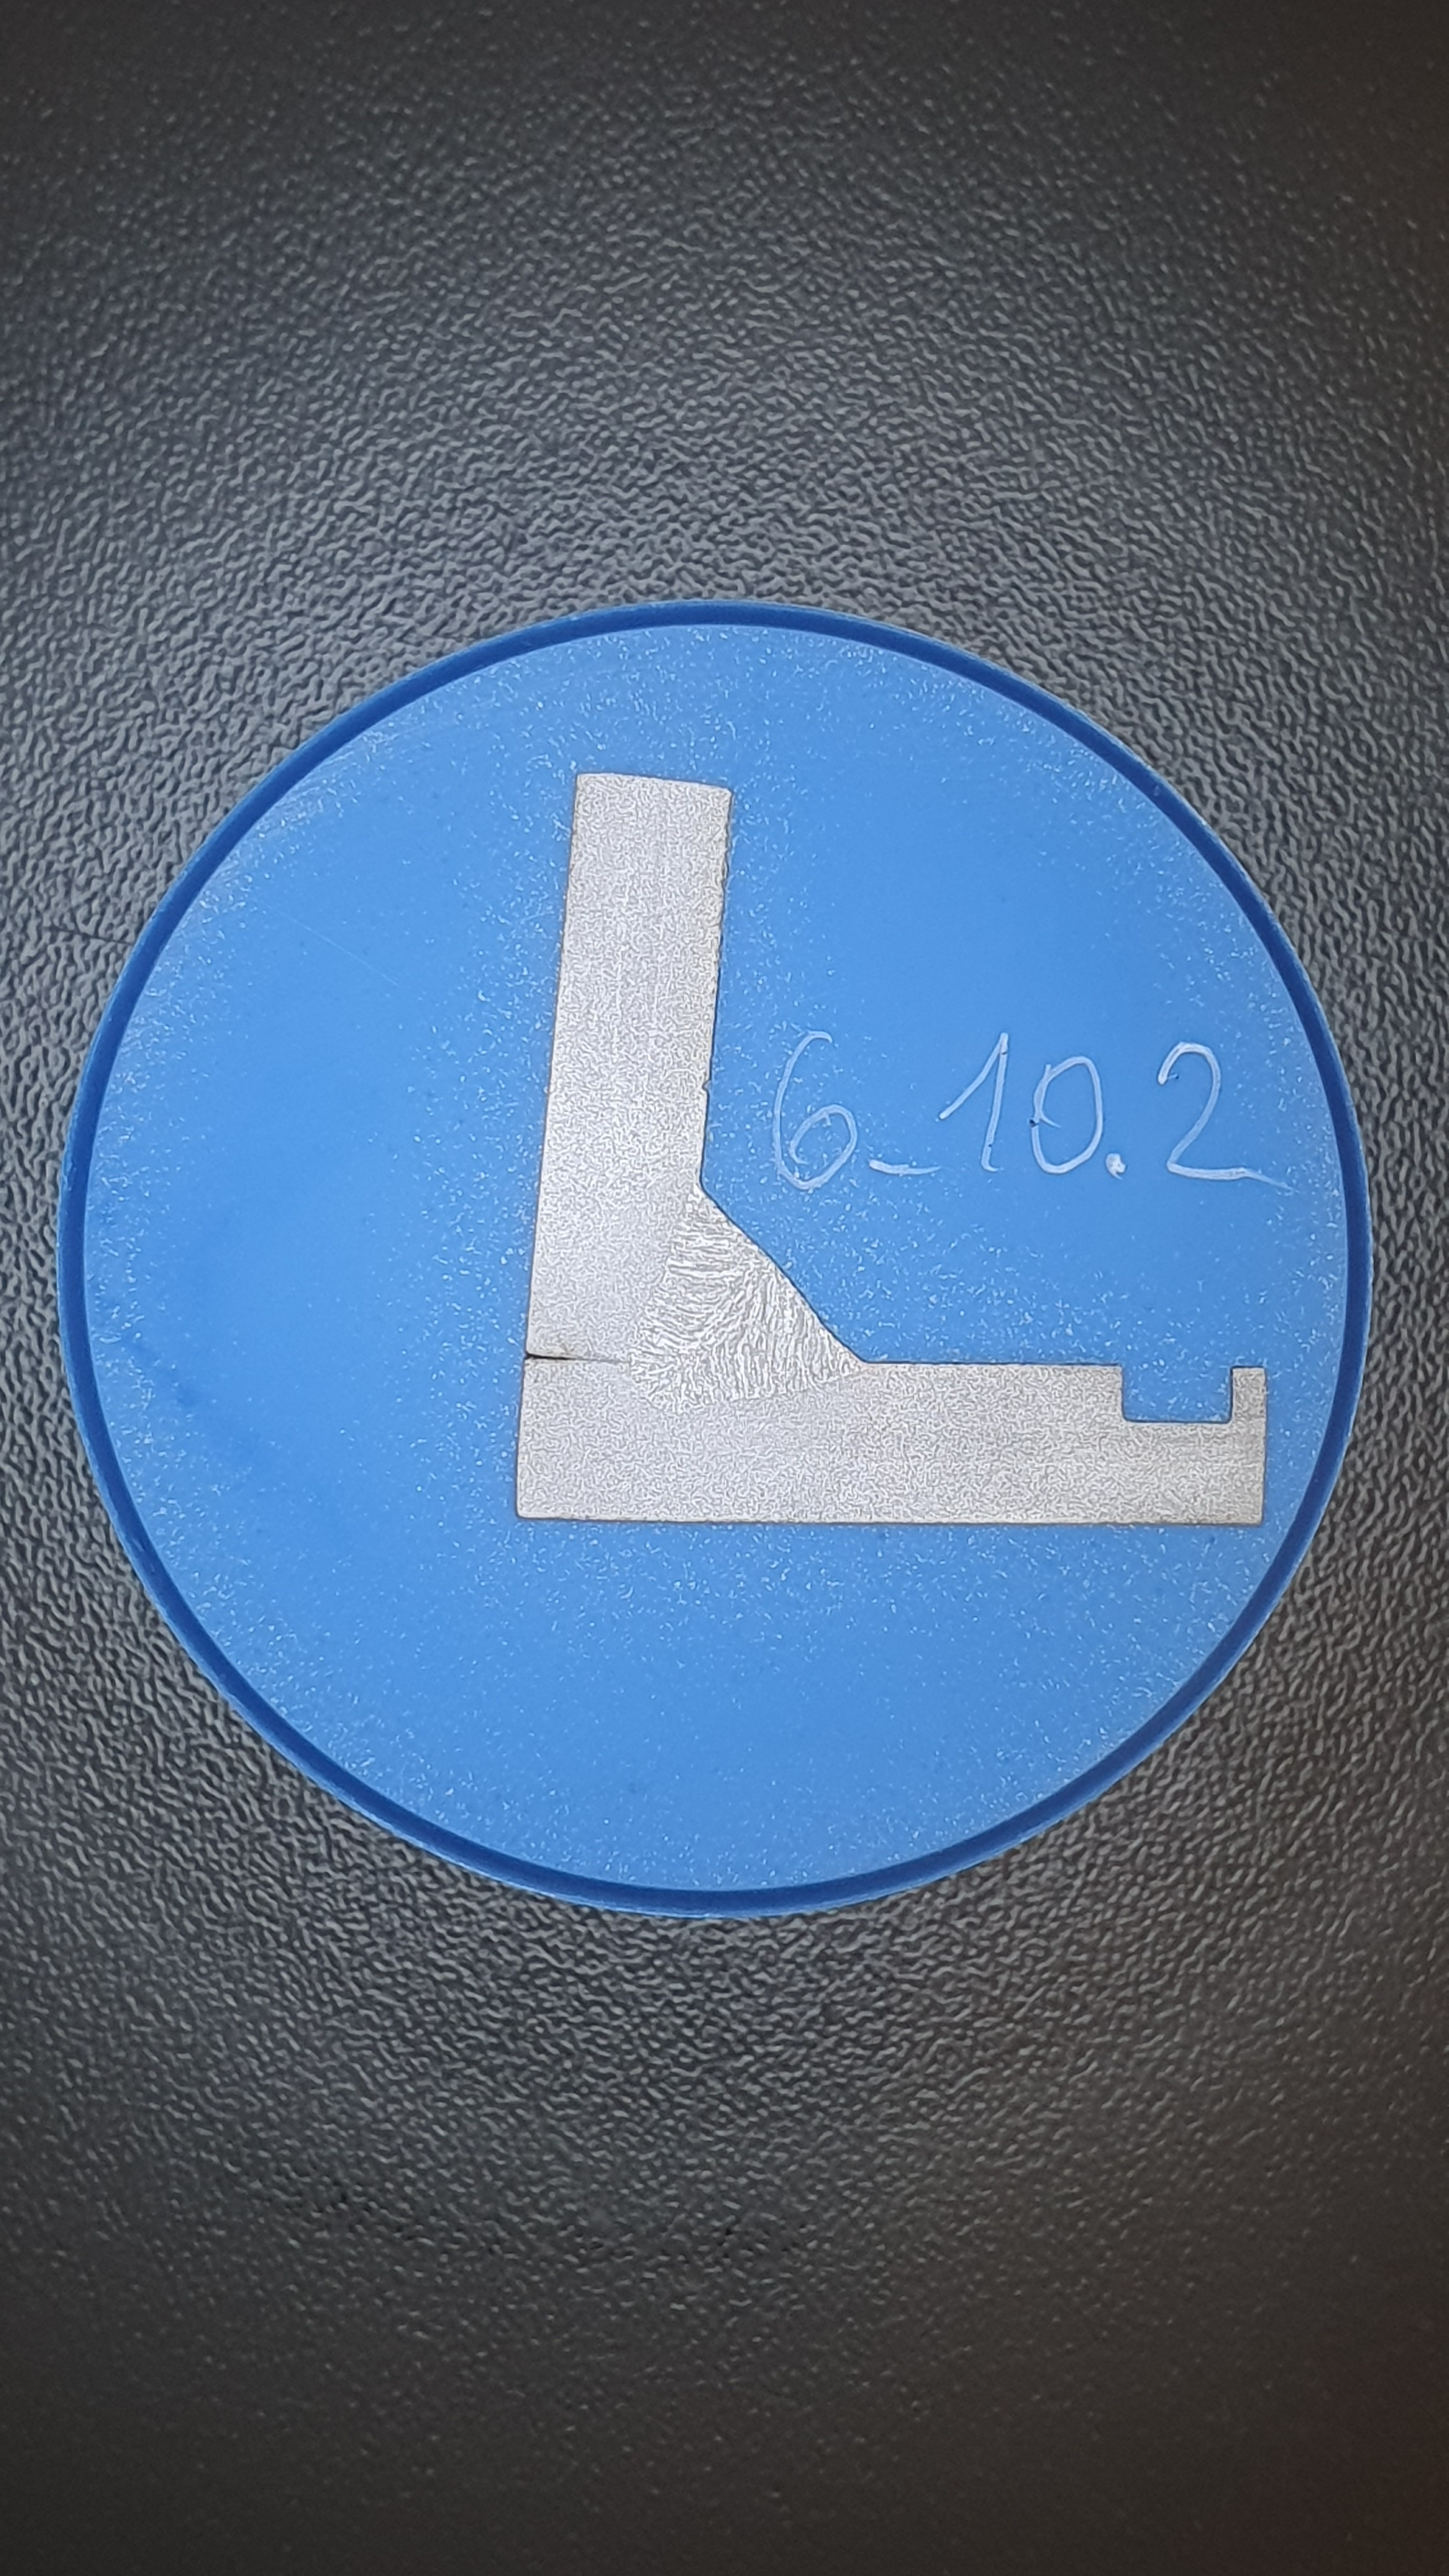Fusion: (625, 1178, 863, 1414)
Hintergrund: (80, 625, 1350, 1888)
Metall: (515, 773, 1265, 1523)
Nebenbereich: (564, 1159, 885, 1468)
